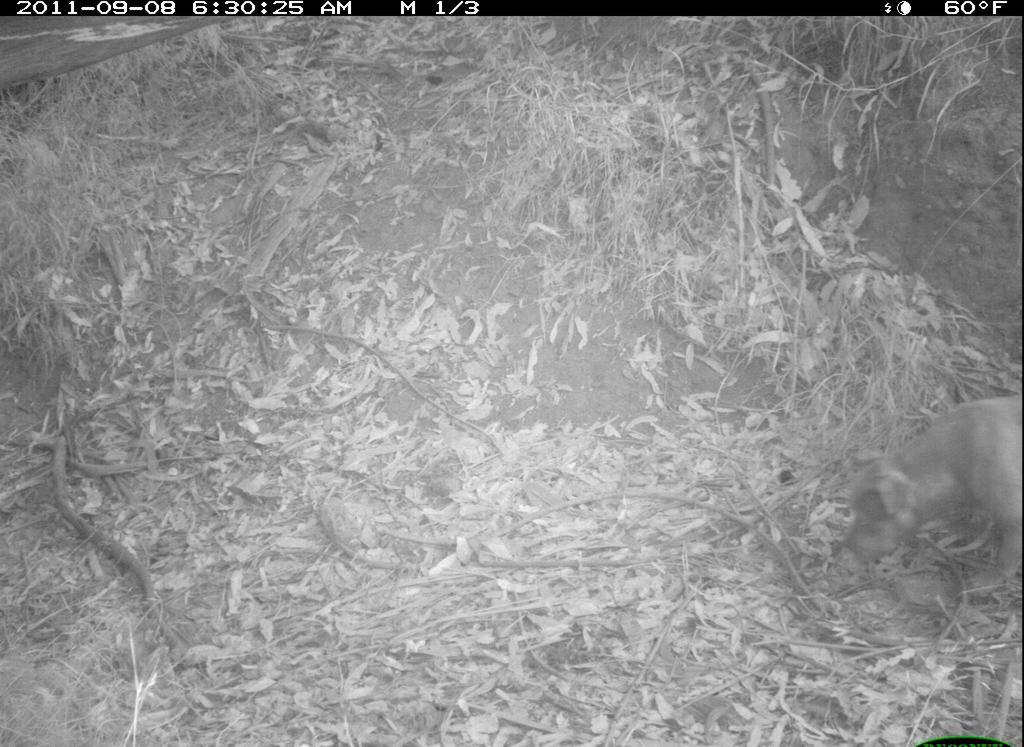dog: (847, 395, 1023, 615)
